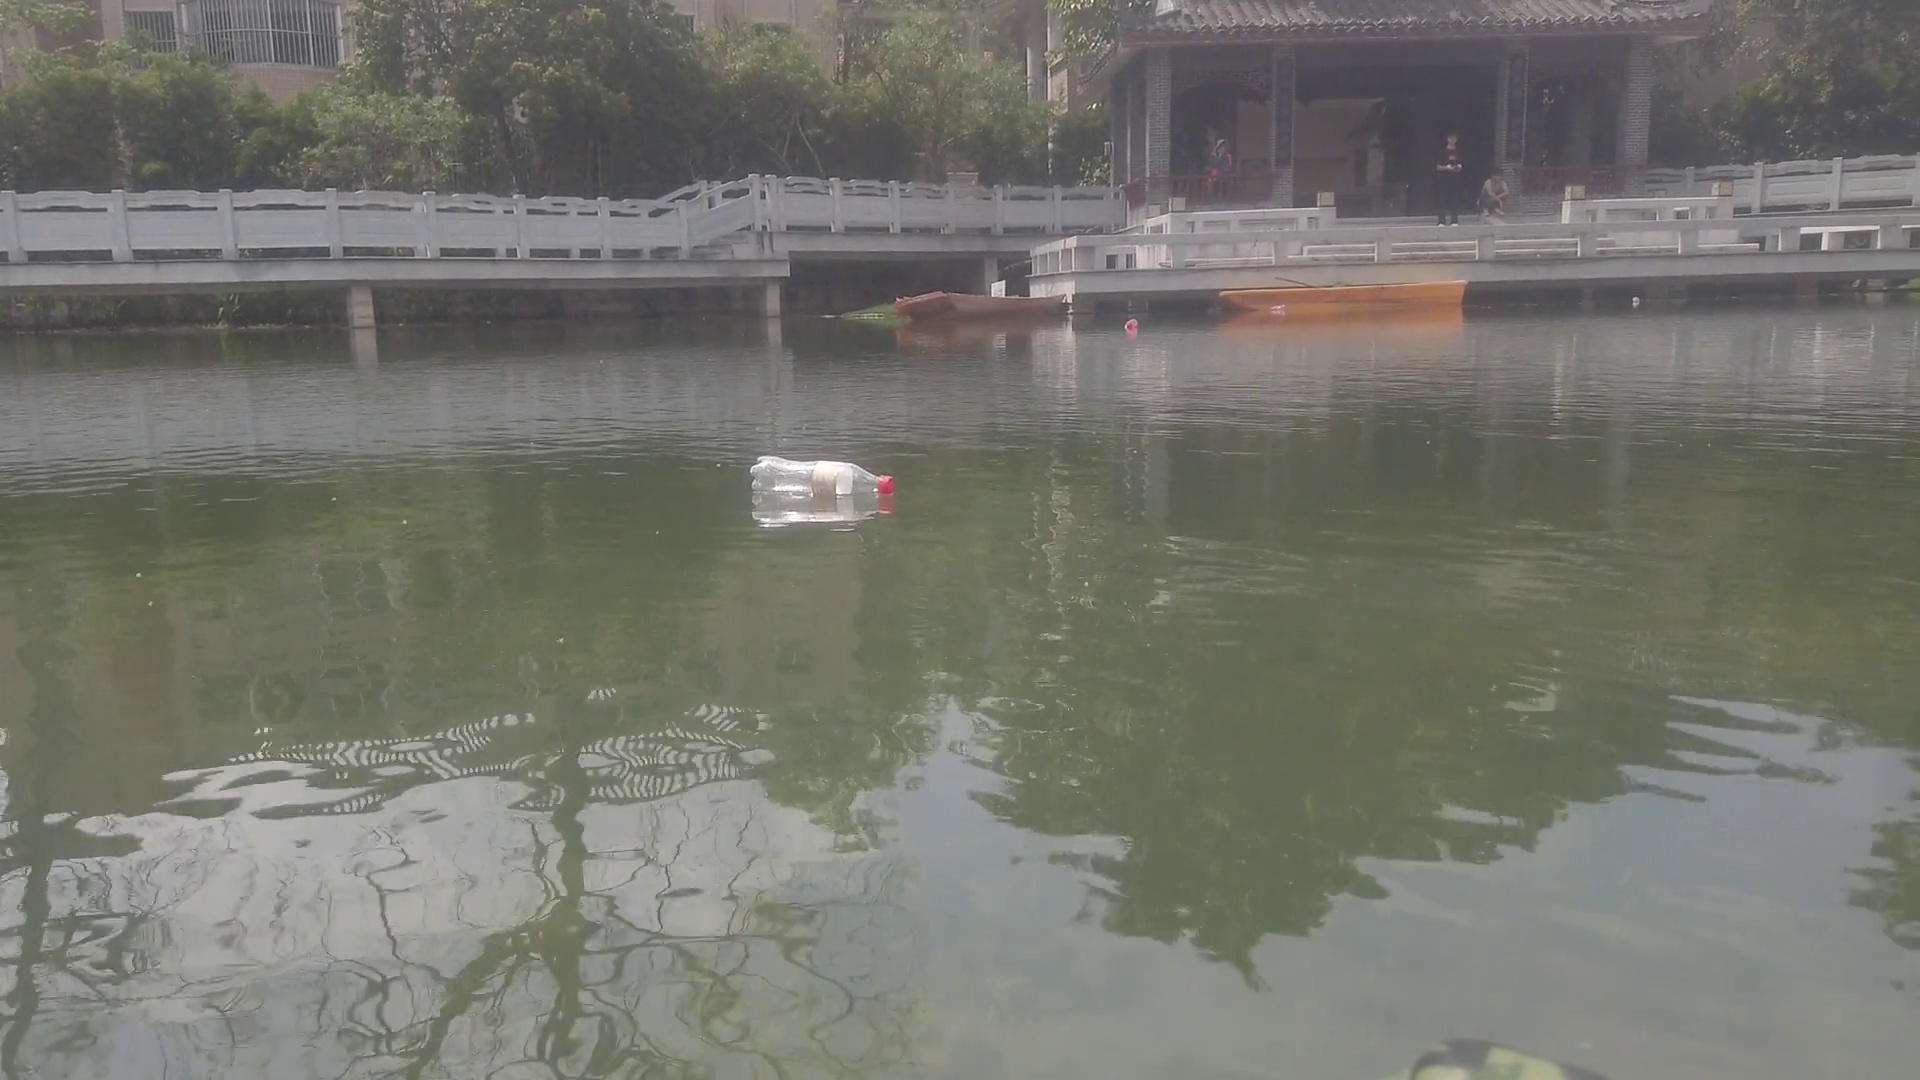bottle: (744, 448, 897, 502), (1124, 313, 1138, 335), (1267, 302, 1292, 314), (1629, 295, 1644, 307)
